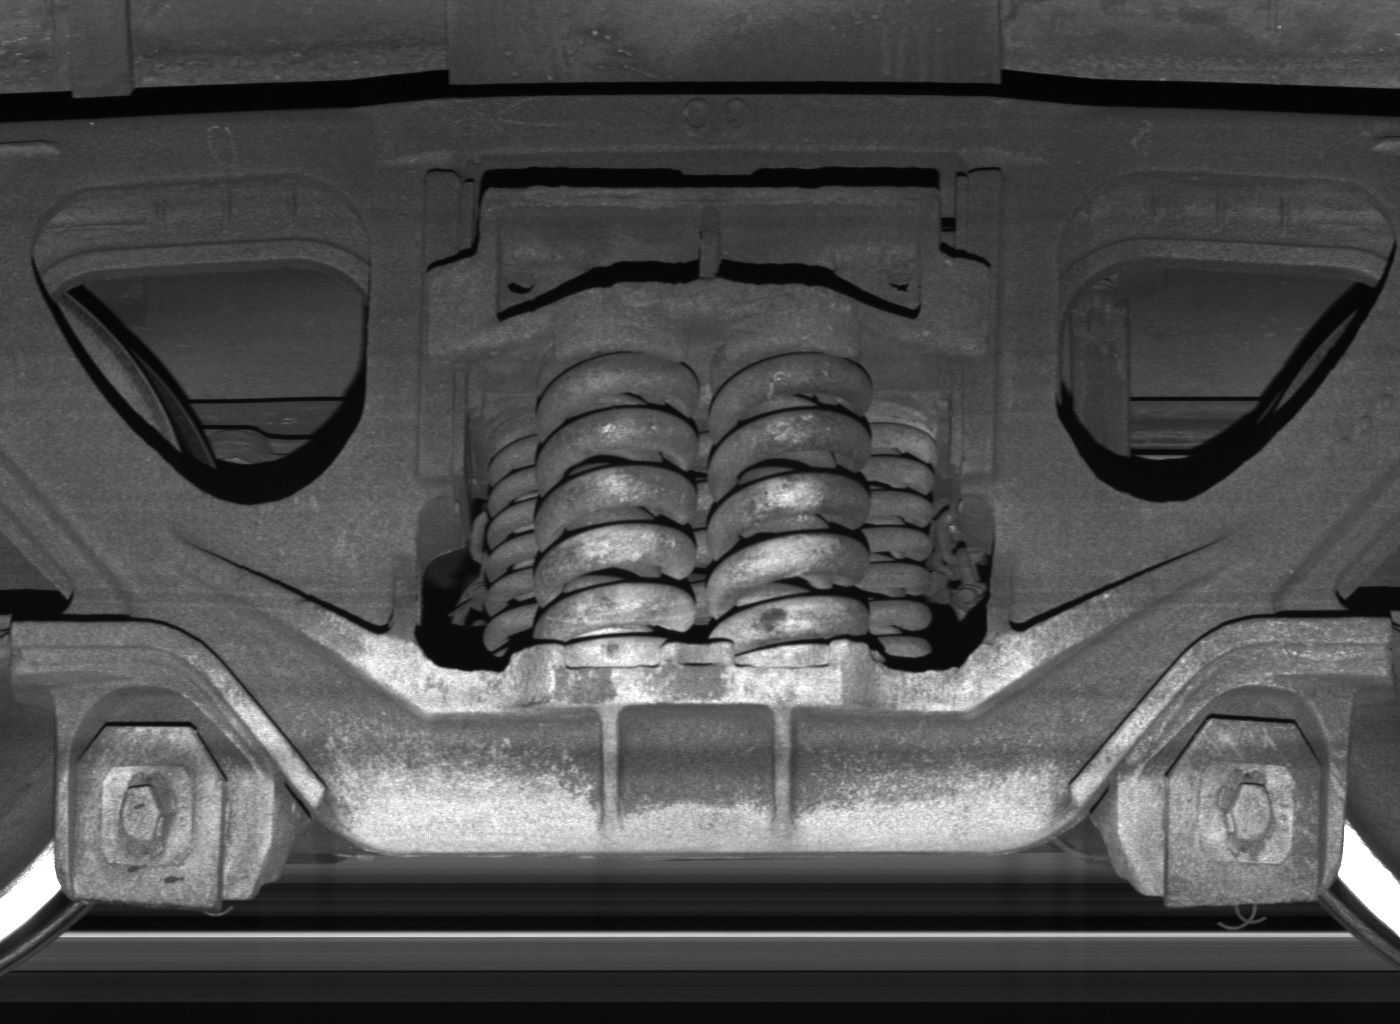Locking plate: (1118, 684, 1347, 911)
normal: (55, 685, 274, 911)
